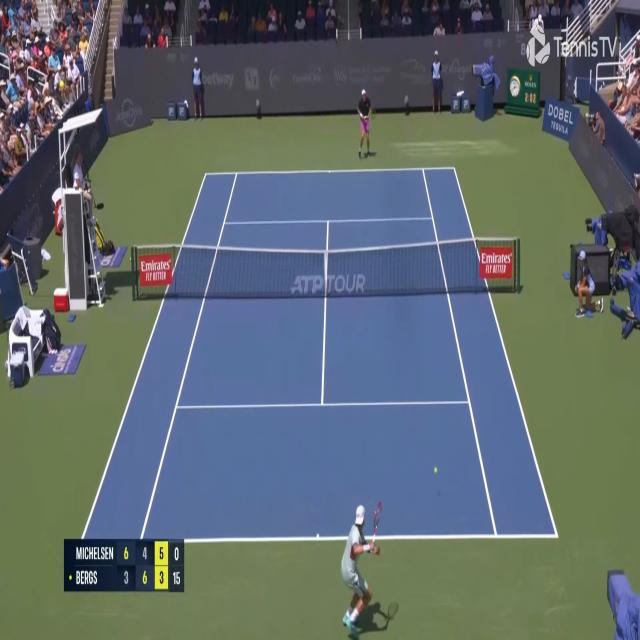tennis-player: (340, 498, 399, 640), (356, 87, 375, 160)
